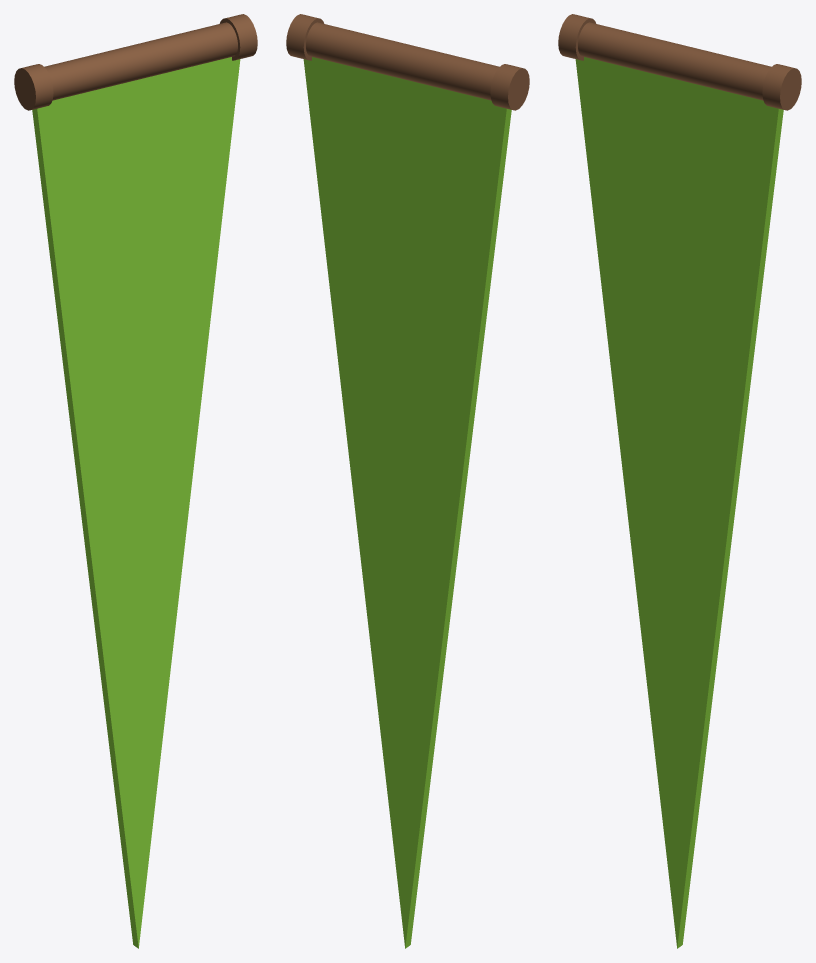
File: Banner2.fbx
The picture shows the model from 3 angles, left to right: view 1: azimuth 30°, elevation 25°; view 2: azimuth 150°, elevation 25°; view 3: azimuth 330°, elevation 25°; orthographic projection.
Parts seen in each view (by area): view 1: Arena_Flag_Banner_001; view 2: Arena_Flag_Banner_001; view 3: Arena_Flag_Banner_001.
Boxes of the visible parts, x1,y1,x2,y2 form: Arena_Flag_Banner_001: (14, 14, 257, 948); Arena_Flag_Banner_001: (286, 14, 529, 948); Arena_Flag_Banner_001: (558, 14, 801, 948).
Bounding box in the file's own units: 2.71 × 10.54 × 0.4608.
